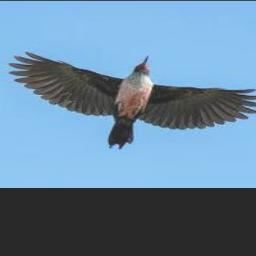Woodpecker: (9, 52, 256, 149)
